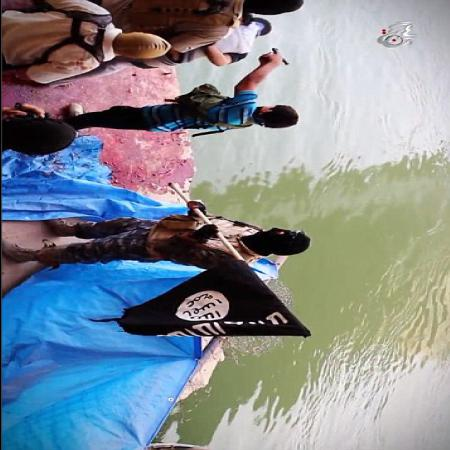Pistol: (257, 47, 290, 65)
